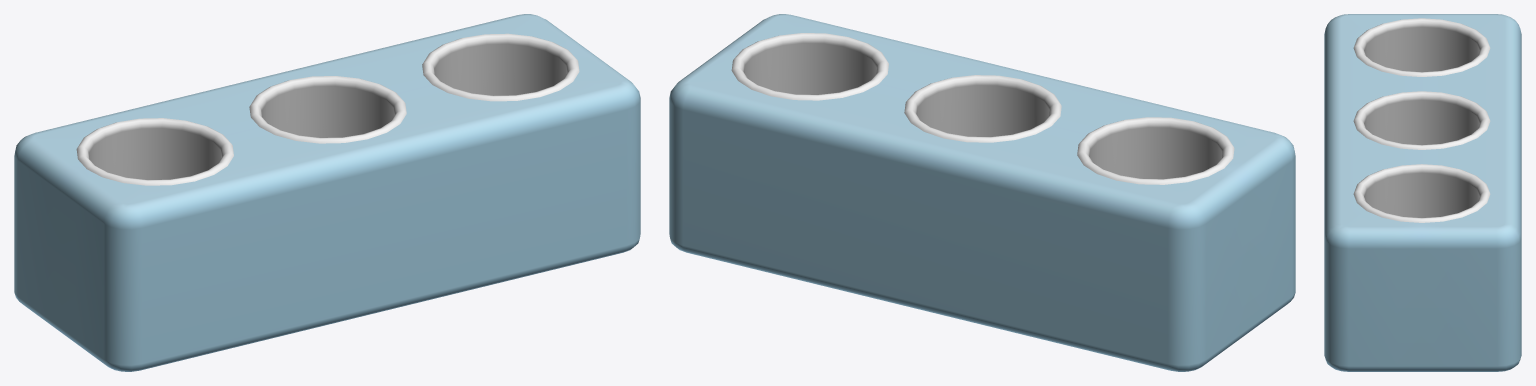
File: Hidden_Slot.dae
3 renders of one model, left to right at view 1: azimuth 30°, elevation 25°; view 2: azimuth 150°, elevation 25°; view 3: azimuth 270°, elevation 25°, orthographic. The views are drawn at different scales.
Visible parts, largest first — view 1: Hidden_Slot; view 2: Hidden_Slot; view 3: Hidden_Slot.
Part boxes in pixels (box(x1,y1,x2,y2)): Hidden_Slot: box(14, 14, 640, 371); Hidden_Slot: box(669, 14, 1295, 371); Hidden_Slot: box(1324, 14, 1521, 371).
Bounding box in the file's own units: 2.26 × 0.6738 × 0.8339.
